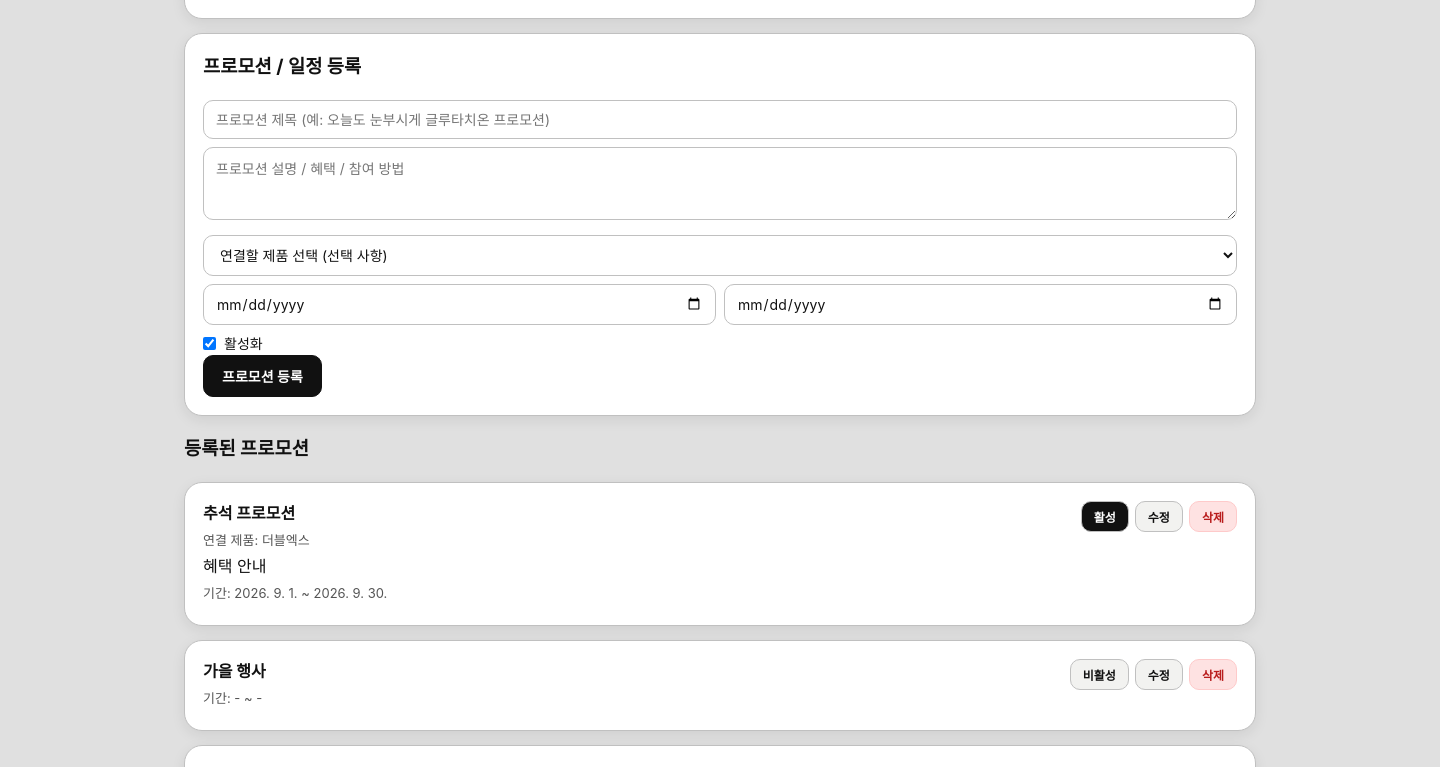
Test: Admin 프로모션 관리 › 제목이 없으면 입력 안내를 보여준다
(page scrolled)
Step 1. Click the button "프로모션 등록" → (262, 376), box [203,355,322,397]
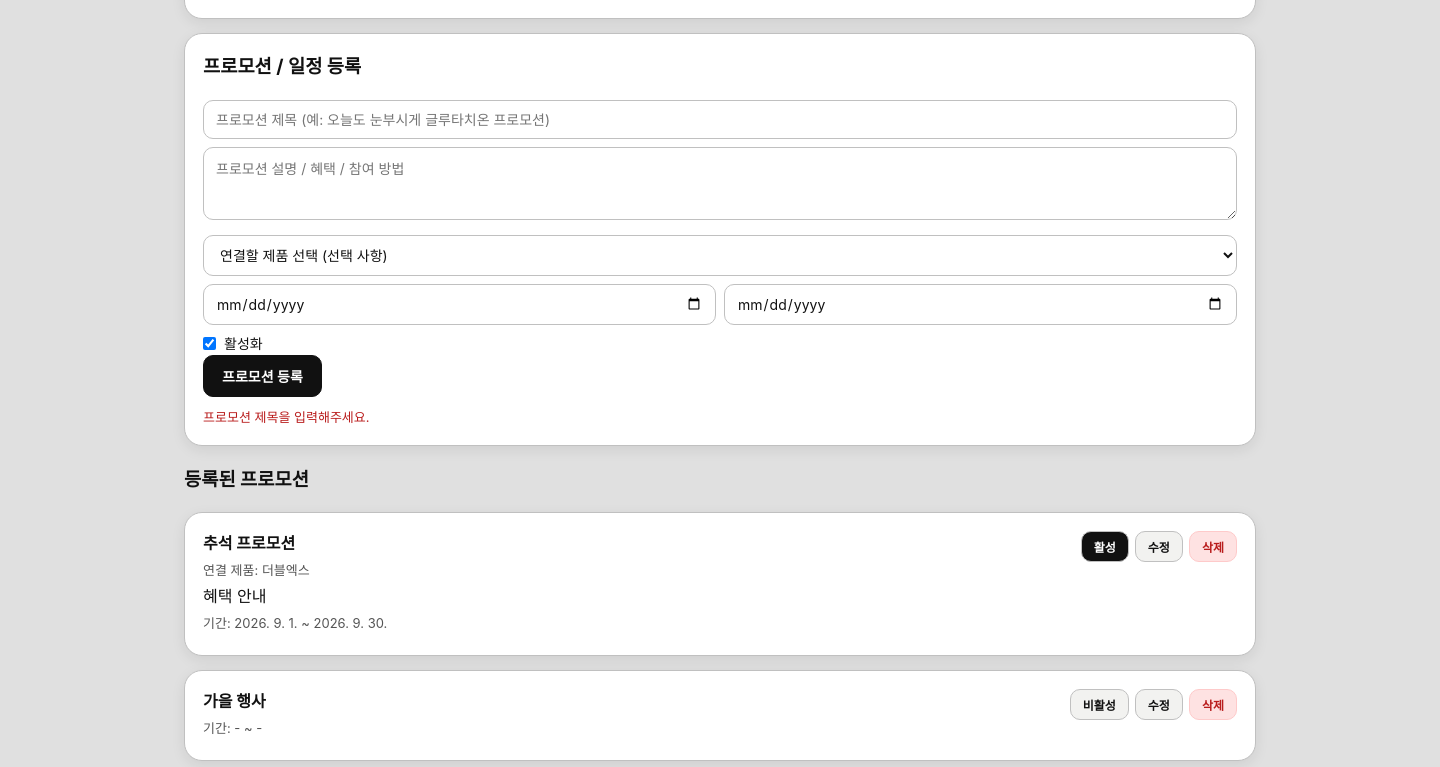
Result: the text "프로모션 제목을 입력해주세요." is shown at [203,409,370,425]
